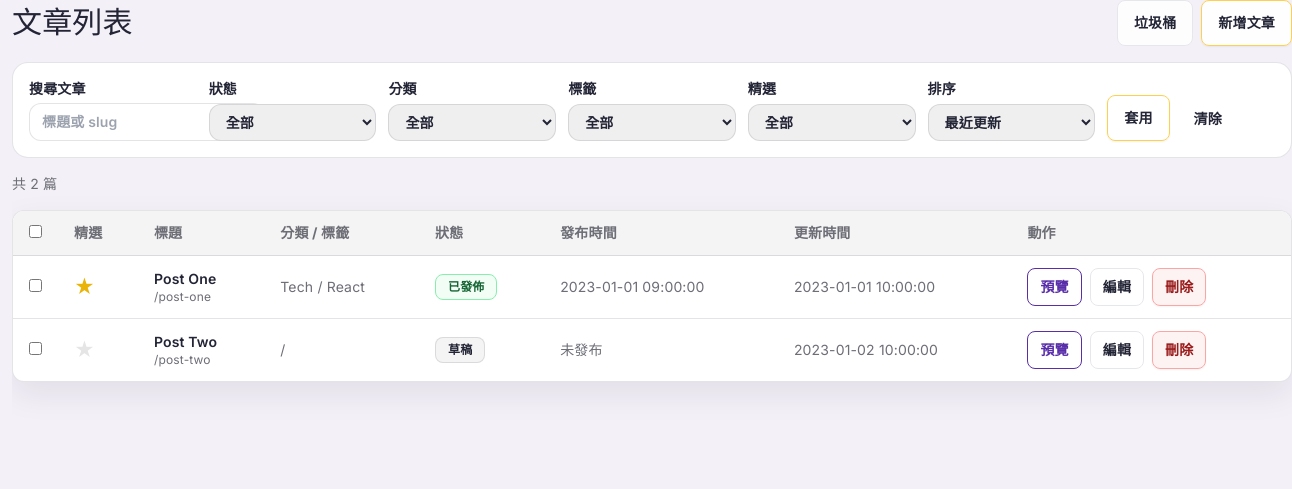
Scenario: PostListClient › handles selection
Click the checkbox named "選取本頁全部文章" at (36,232), box [29,225,42,238]
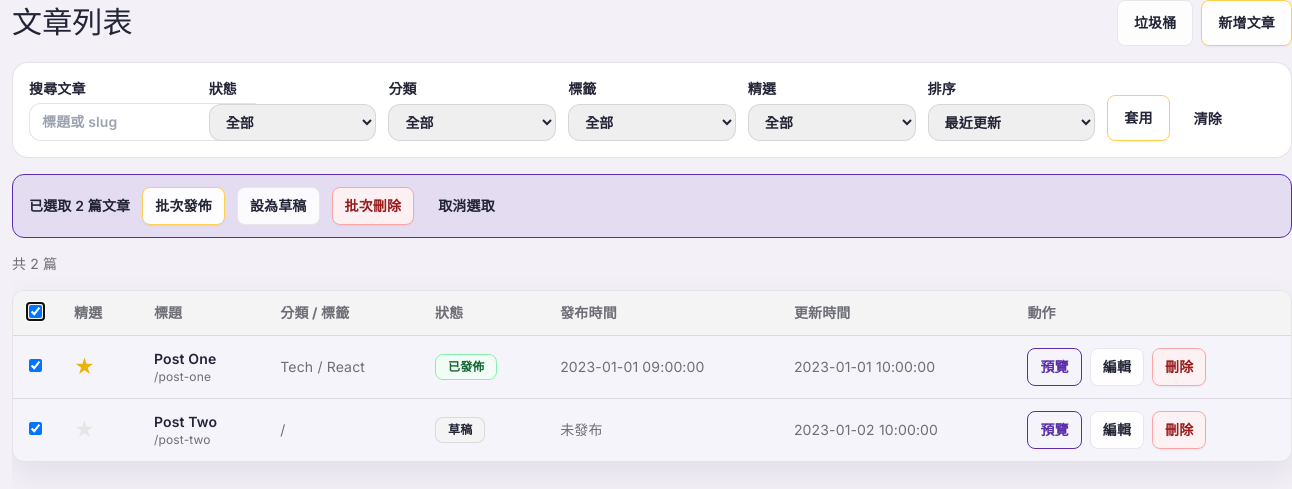
Expected: the checkbox named "選取文章「Post One」" is checked
Expected: the checkbox named "選取文章「Post Two」" is checked, [29,422,42,435]
Expected: the text "已選取 2 篇文章" is shown, [29,196,130,216]
# Deselect one
Click the checkbox named "選取文章「Post One」" at (36,366), box [29,359,42,372]
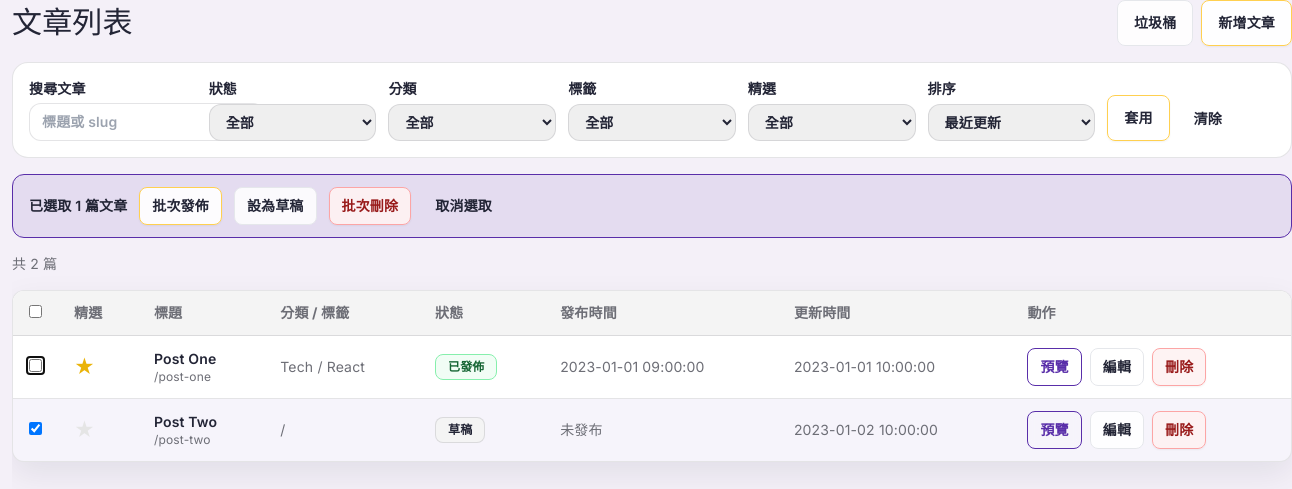
Expected: the text "已選取 1 篇文章" is shown, [29,196,127,216]
